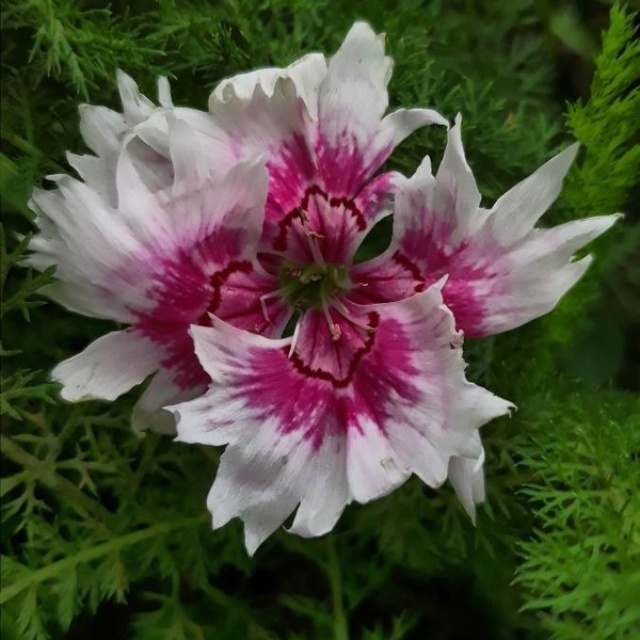obstacle: (25, 45, 622, 588)
